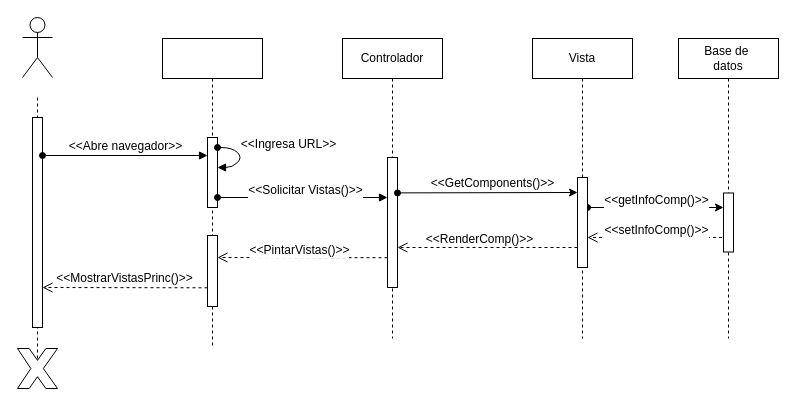
Image size: 796x406. Some labels were removed from this diagram. Here are the shapes that lost their labels. From the top down, the centre of each, then its label:
At (37,47): "Alumno".
At (212,193): "Navegador Web".
